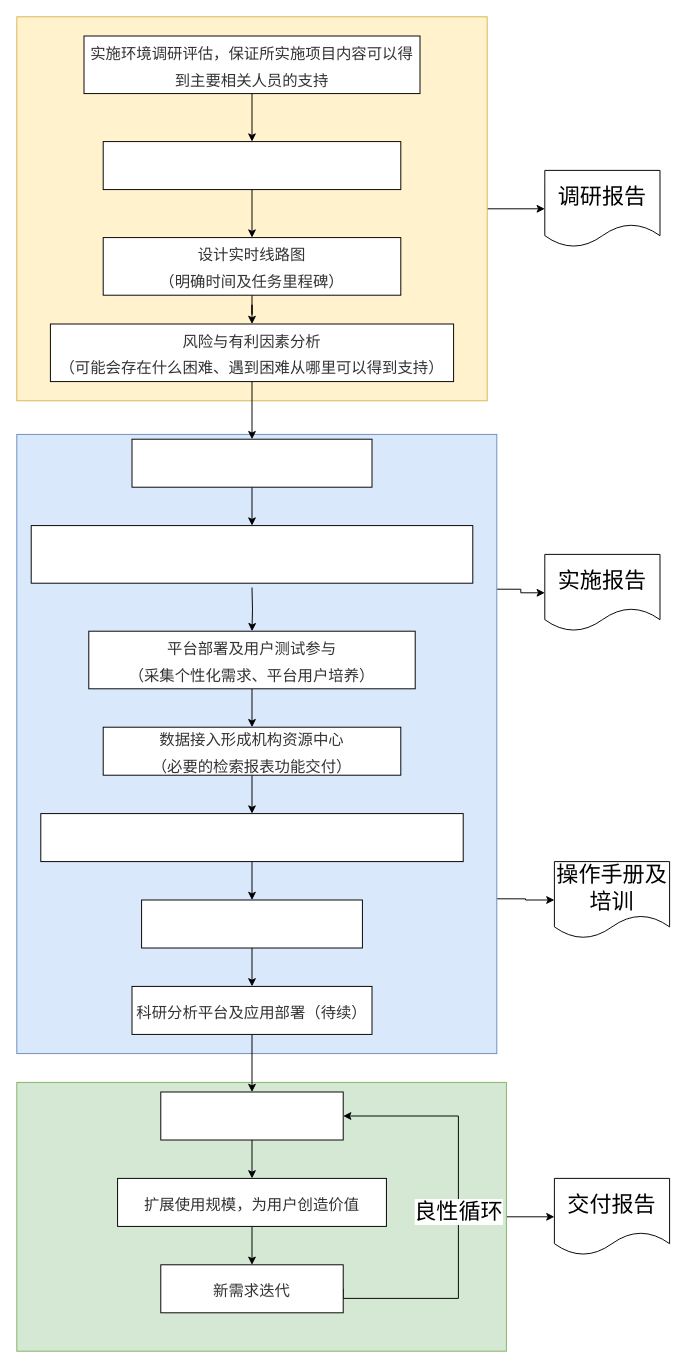
This 686x1368 diagram has some shape labels left out. Each missing label, with the box of its shape:
协助建立 项目团队库发布数据: (141, 899, 362, 948)
数据治理模块按需分批交付，同时提供用户测试参与: (40, 813, 463, 862)
明确项目核心目标及考核标准: (102, 141, 401, 190)
获得必要的硬件及网络环境支持: (131, 438, 372, 487)
软件及IT技术选型 （采用何种抽数方案、如何存数数据、部署哪个版本平台等）: (30, 525, 473, 583)
项目评估及交付: (160, 1091, 343, 1140)
